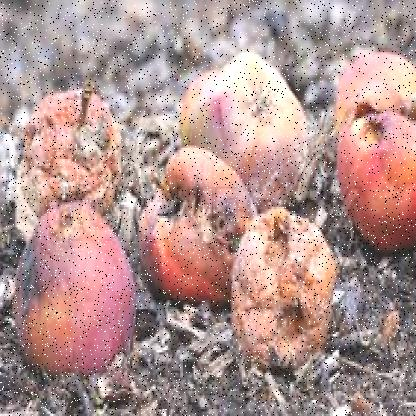damaged_apple: (12, 211, 132, 375), (178, 59, 304, 202), (140, 154, 254, 304), (233, 214, 337, 360), (16, 91, 126, 214), (335, 57, 412, 216)
